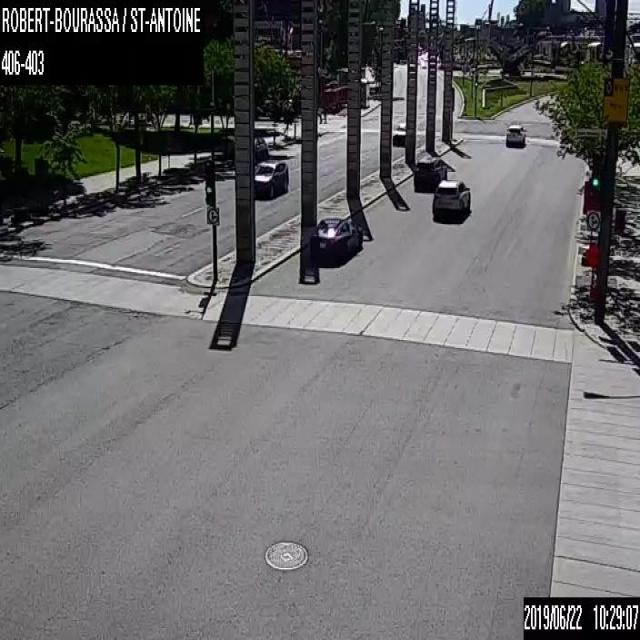construction: (584, 240, 597, 307)
vehicle: (309, 215, 363, 261), (432, 178, 470, 220), (253, 158, 288, 199), (413, 156, 447, 192), (505, 122, 525, 146), (254, 135, 268, 161), (391, 121, 405, 144), (420, 63, 426, 69)
